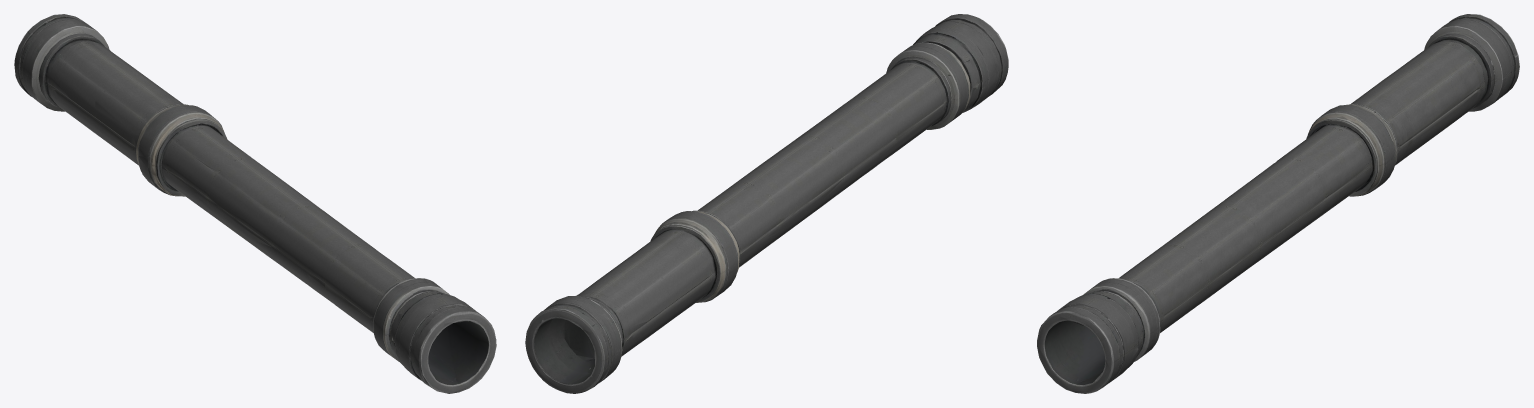
File: shared_defence_battery__barrel.glb
The picture shows the model from 3 angles, left to right: view 1: azimuth 30°, elevation 25°; view 2: azimuth 150°, elevation 25°; view 3: azimuth 330°, elevation 25°; orthographic projection.
Visible parts, largest first — view 1: mesh_node; view 2: mesh_node; view 3: mesh_node.
Boxes of the visible parts, box(x1,y1,x2,y2) form: mesh_node: box(14, 14, 496, 393); mesh_node: box(525, 14, 1008, 393); mesh_node: box(1037, 14, 1519, 393).
Size of the model in its own units: 1.38 by 1.39 by 12.19.
1 material, 1 textured.
